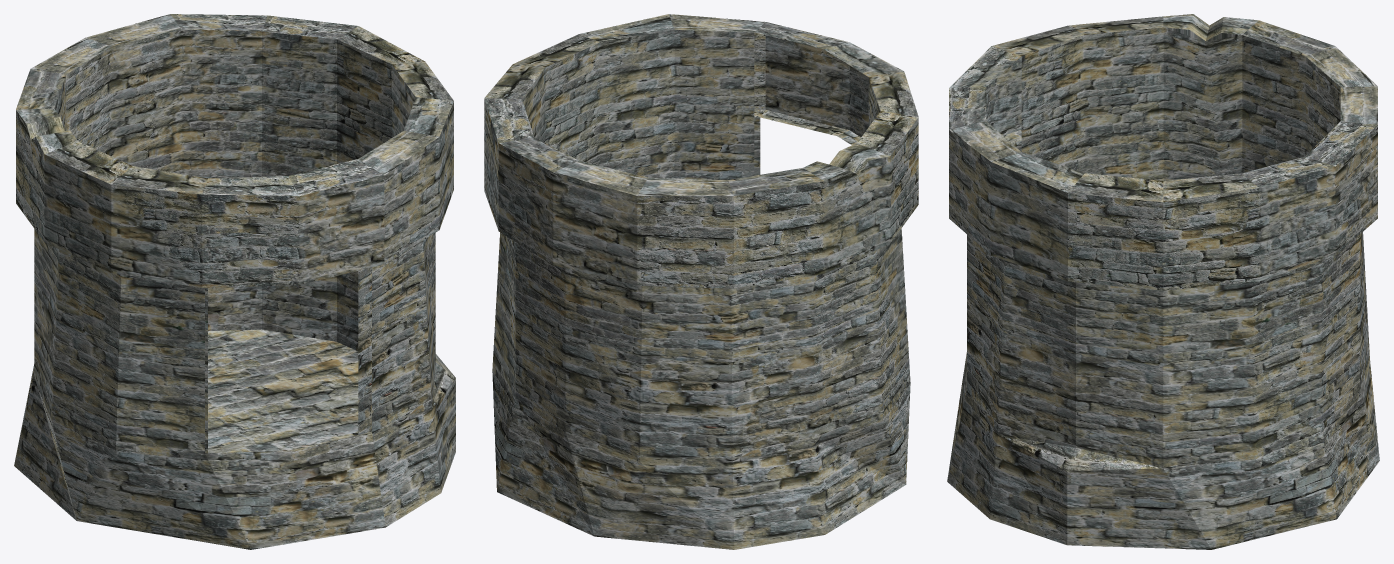
The model's file is tavern_fireplace_LOD.dae.
3 views of the same model, side by side, from view 1: azimuth 30°, elevation 25°; view 2: azimuth 150°, elevation 25°; view 3: azimuth 270°, elevation 25° (orthographic).
Parts seen in each view (by area): view 1: Default_Layer; view 2: Default_Layer; view 3: Default_Layer.
Part boxes in pixels (left/top/right/bottom): Default_Layer: left=14, top=14, right=455, bottom=549; Default_Layer: left=484, top=14, right=918, bottom=549; Default_Layer: left=947, top=14, right=1379, bottom=549.
Size of the model in its own units: 1.98 by 1.77 by 1.95.
